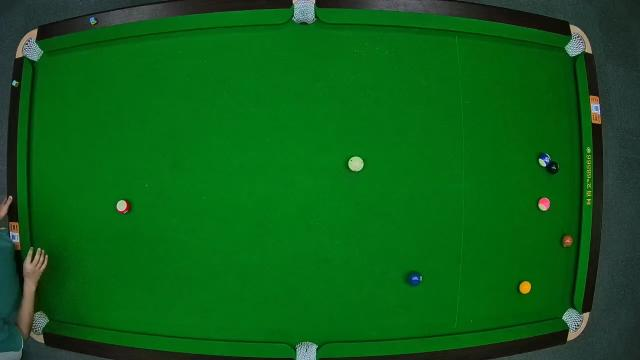bag1: (20, 40, 40, 60)
bag2: (292, 0, 316, 26)
bag3: (566, 35, 588, 56)
bag4: (28, 312, 50, 332)
bag5: (294, 340, 318, 360)
bag6: (562, 310, 582, 330)
ball0: (348, 156, 364, 172)
ball1: (519, 280, 533, 295)
ball10: (538, 153, 552, 167)
ball11: (115, 198, 132, 214)
ball12: (539, 198, 551, 212)
ball2: (408, 270, 424, 286)
ball7: (560, 233, 574, 247)
ball8: (546, 159, 560, 173)
